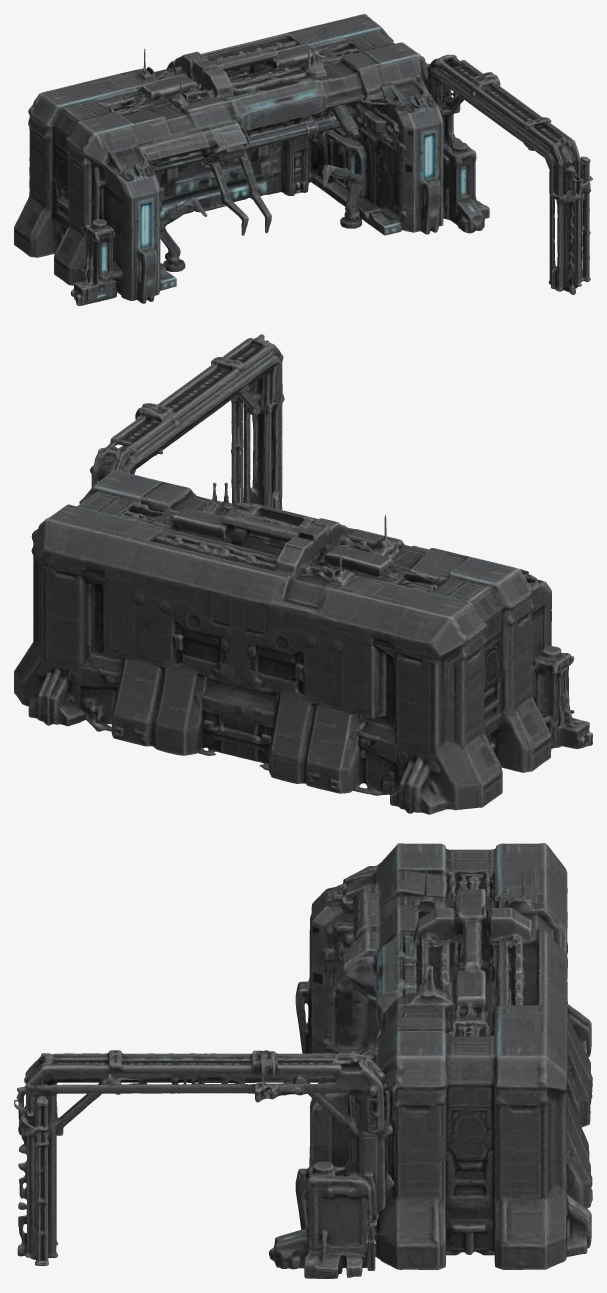
Rendered from shipyard.glb.
3 renders of one model, top to bottom at view 1: azimuth 30°, elevation 25°; view 2: azimuth 150°, elevation 25°; view 3: azimuth 270°, elevation 25°, orthographic. The views are drawn at different scales.
Size of the model in its own units: 1.9 by 0.8083 by 1.76.
1 material, 1 textured.
